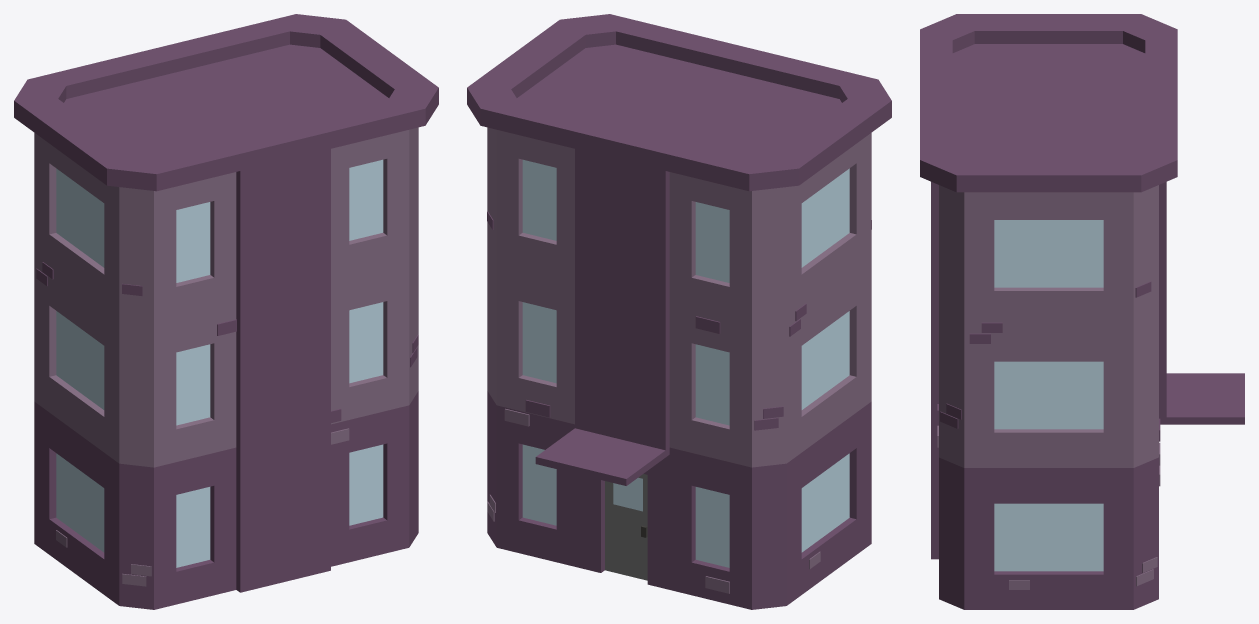
The model's file is Building_7.fbx.
3 renders of one model, left to right at view 1: azimuth 30°, elevation 25°; view 2: azimuth 150°, elevation 25°; view 3: azimuth 270°, elevation 25°, orthographic.
Parts seen in each view (by area): view 1: Building_7; view 2: Building_7; view 3: Building_7.
Part boxes in pixels (bbox=[...]): Building_7: bbox=[14, 14, 438, 609]; Building_7: bbox=[467, 14, 891, 609]; Building_7: bbox=[920, 14, 1244, 609].
Bounding box in the file's own units: 19.52 × 24.96 × 16.6.
Materials: 1 (1 with a texture image).
